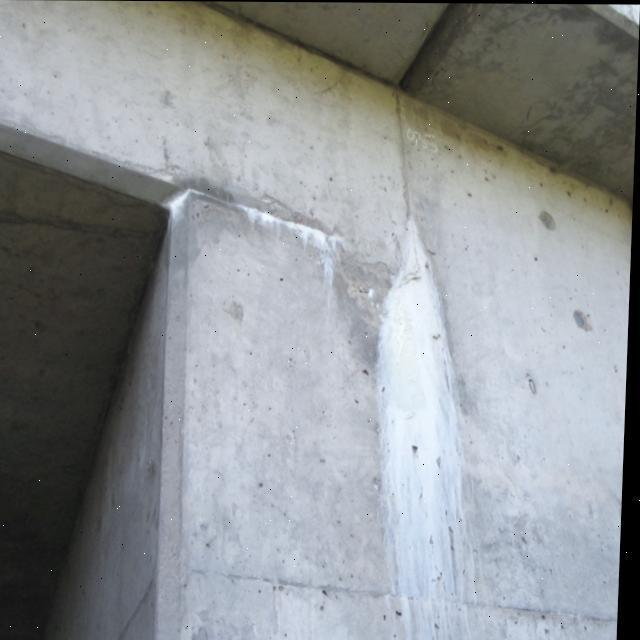D01: (374, 242, 465, 639), (238, 202, 339, 282), (162, 190, 205, 216)
